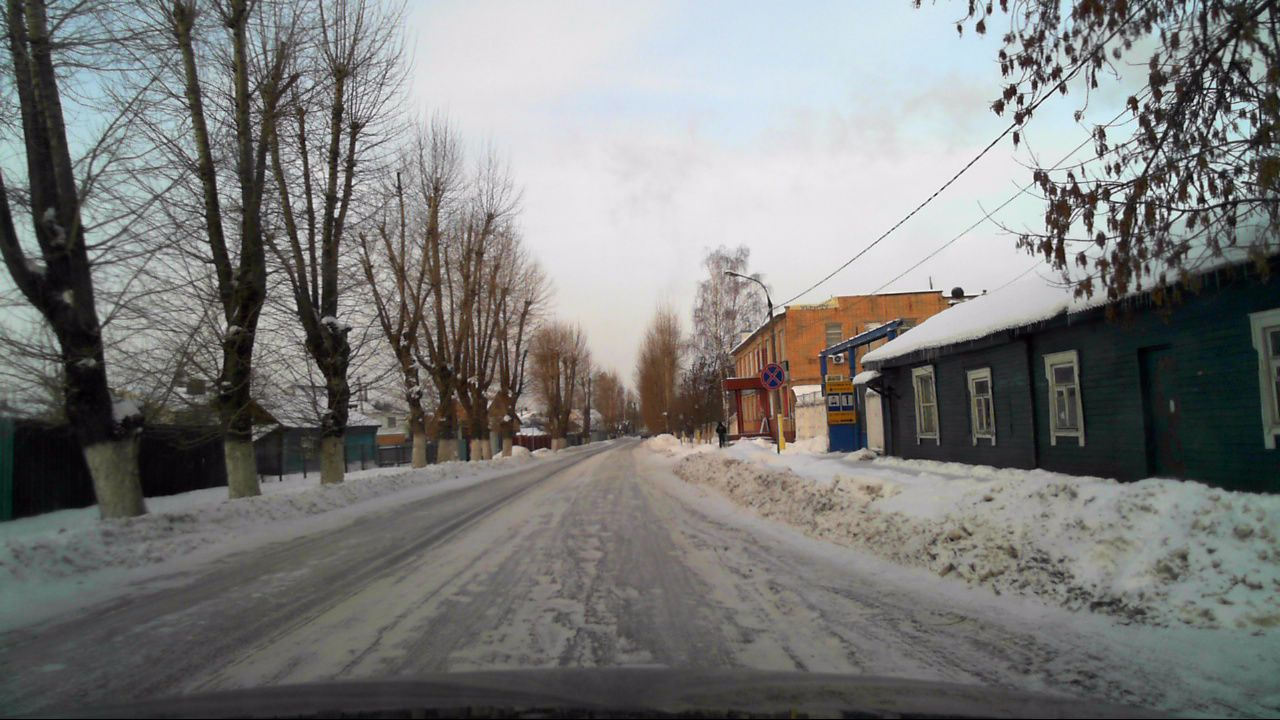No Parking: (759, 361, 785, 390)
